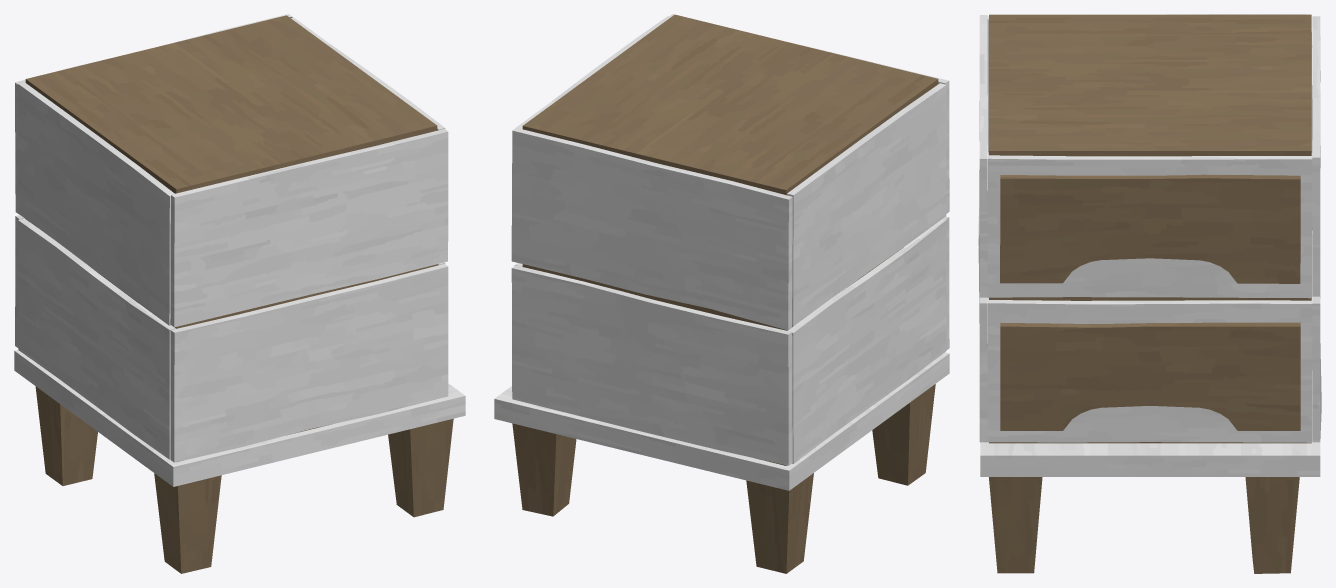
Rendered from BeeBox.fbx.
3 renders of one model, left to right at view 1: azimuth 30°, elevation 25°; view 2: azimuth 150°, elevation 25°; view 3: azimuth 270°, elevation 25°, orthographic. The views are drawn at different scales.
Visible parts, largest first — view 1: Box_LOD0; view 2: Box_LOD0; view 3: Box_LOD0.
Part boxes in pixels (box(x1,y1,x2,y2)): Box_LOD0: box(14, 14, 465, 573); Box_LOD0: box(494, 14, 949, 573); Box_LOD0: box(978, 14, 1321, 573).
Size of what is drawn, in the model's own units: 107 by 143 by 112.
Materials: 1 (1 with a texture image).
